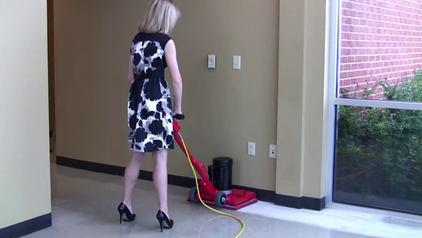down: (152, 207, 174, 232), (114, 199, 133, 224)
